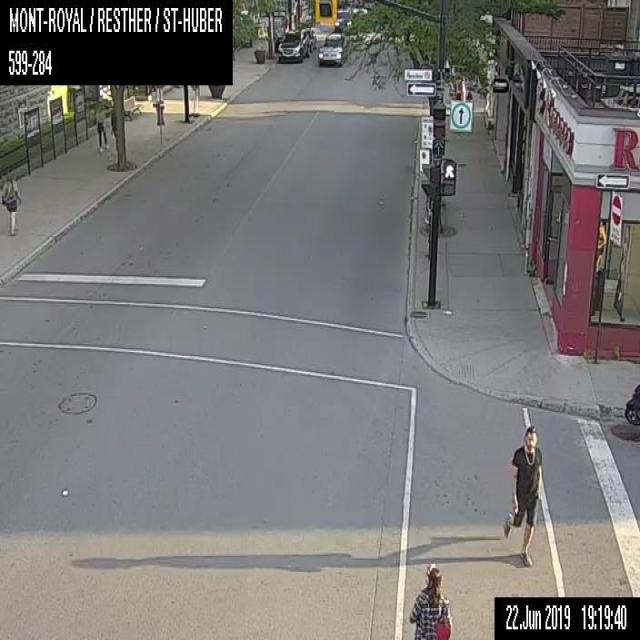pedestrian: (502, 426, 542, 566), (407, 562, 451, 638), (0, 170, 21, 234), (95, 104, 108, 151)
vehicle: (278, 29, 308, 62), (317, 32, 346, 64), (333, 10, 352, 31), (300, 27, 316, 50)
